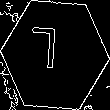L_S: (39, 29, 71, 81)
